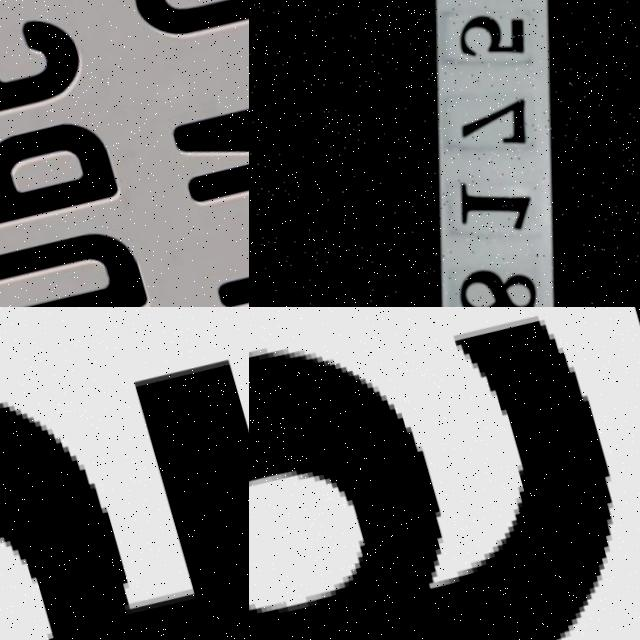1: (441, 152, 557, 257)
5: (0, 307, 249, 640), (440, 0, 547, 82)
6: (249, 307, 640, 640), (0, 0, 91, 162)
7: (436, 64, 555, 172)
8: (438, 235, 563, 307)
D: (0, 202, 155, 307)
N: (166, 44, 249, 211)
P: (192, 148, 249, 307)
R: (0, 91, 125, 260)
